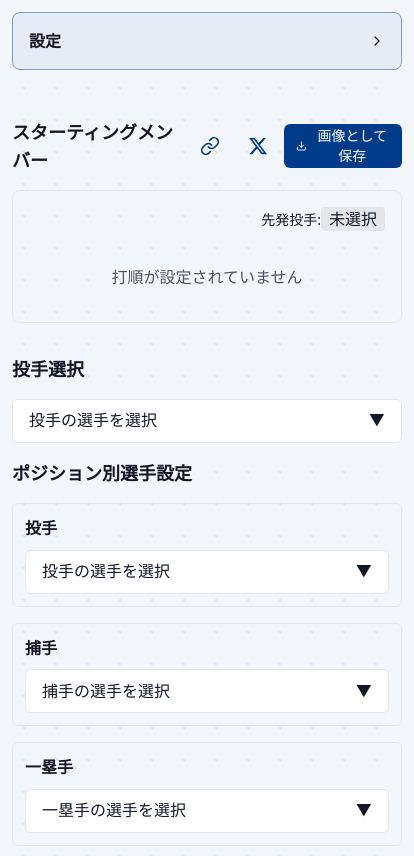
Test: LineupCreator › コンポーネントが正しくレンダリングされる
Click the button "設定" at (45, 41), box [13,13,401,69]
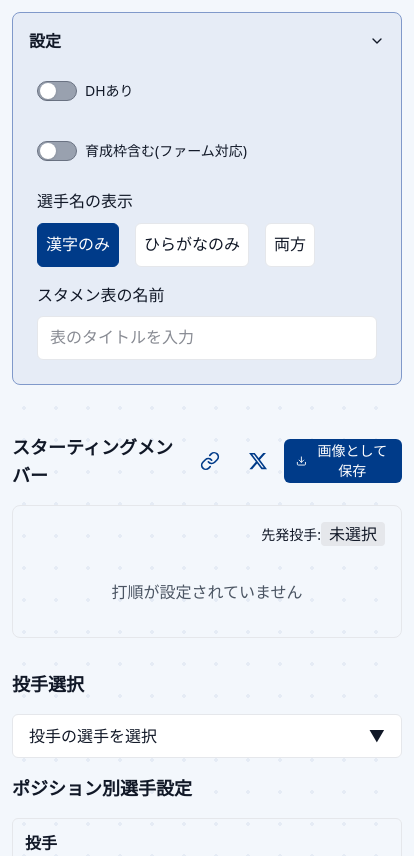
Expected: the heading "ポジション別選手設定" is shown, [12,776,192,800]
Expected: the text "DHあり" is shown, [85,81,134,101]
Expected: the text "育成枠含む(ファーム対応)" is shown, [85,141,247,161]
